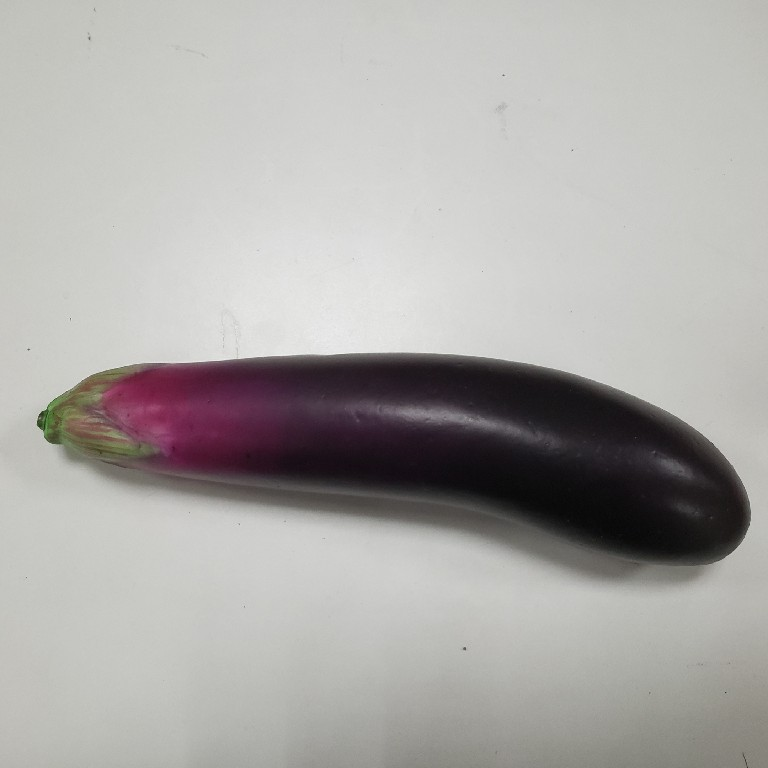fruit_eggplant: (27, 347, 755, 569)
